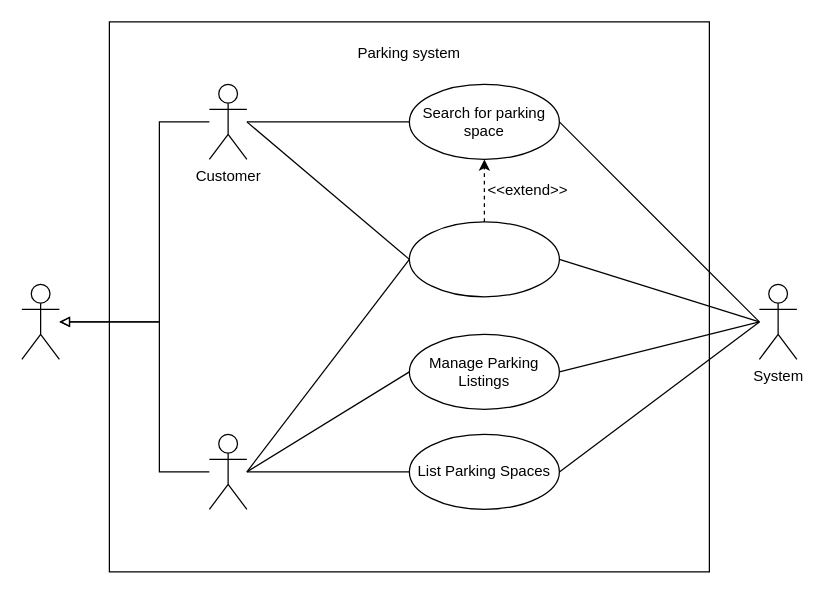
This 825x594 diagram has some shape labels left out. Here are the shapes that lost their labels. From the top down, the centre of each, then its label:
At point 483,259: "View Real-time Availability".
At point 40,321: "User".
At point 227,471: "Parking lot owners".
